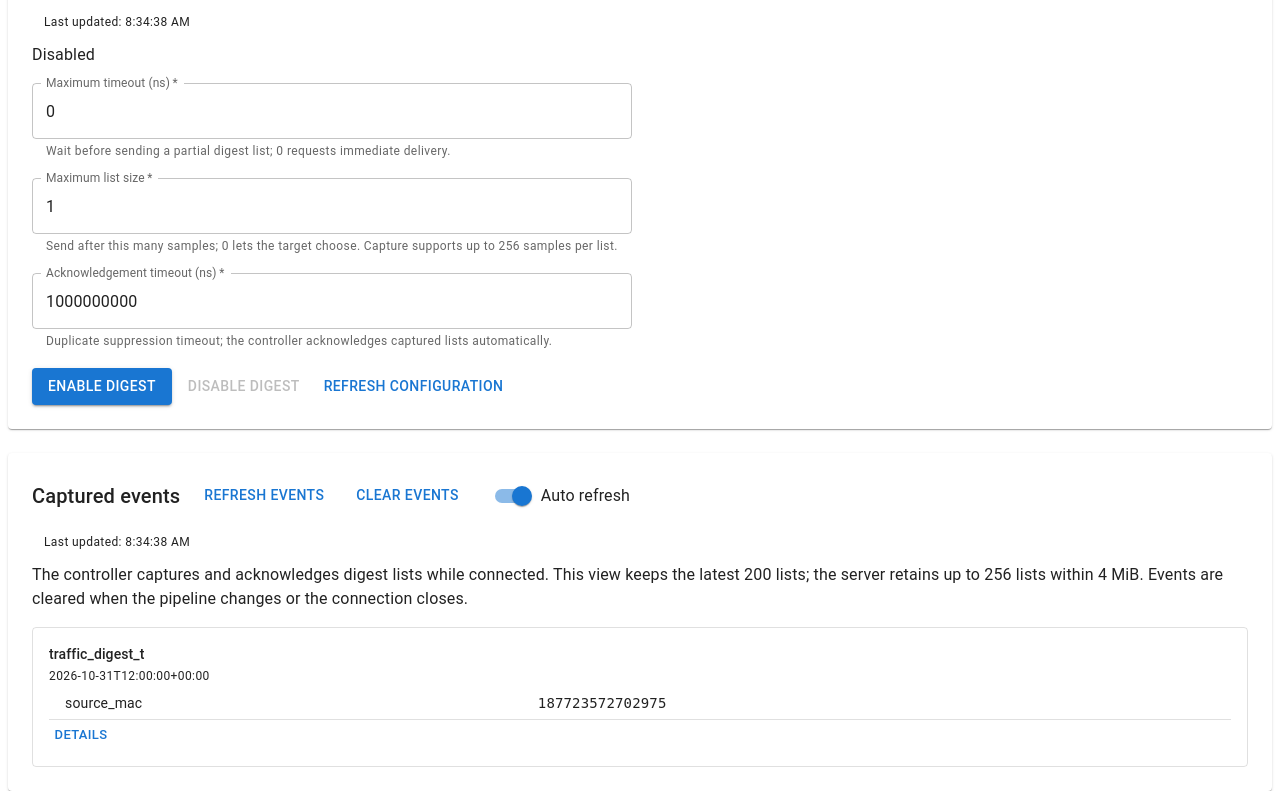
Test: digests › enables, updates and disables a digest while showing decoded captured events
(page scrolled)
Expected: the text "Disabled" is shown, [32,45,95,64]
Expected: the element with test id "digest-event-1" shows "source_mac", [65,694,142,710]
Click the button "Details". click: (81, 735)
box: [49,720,113,750]
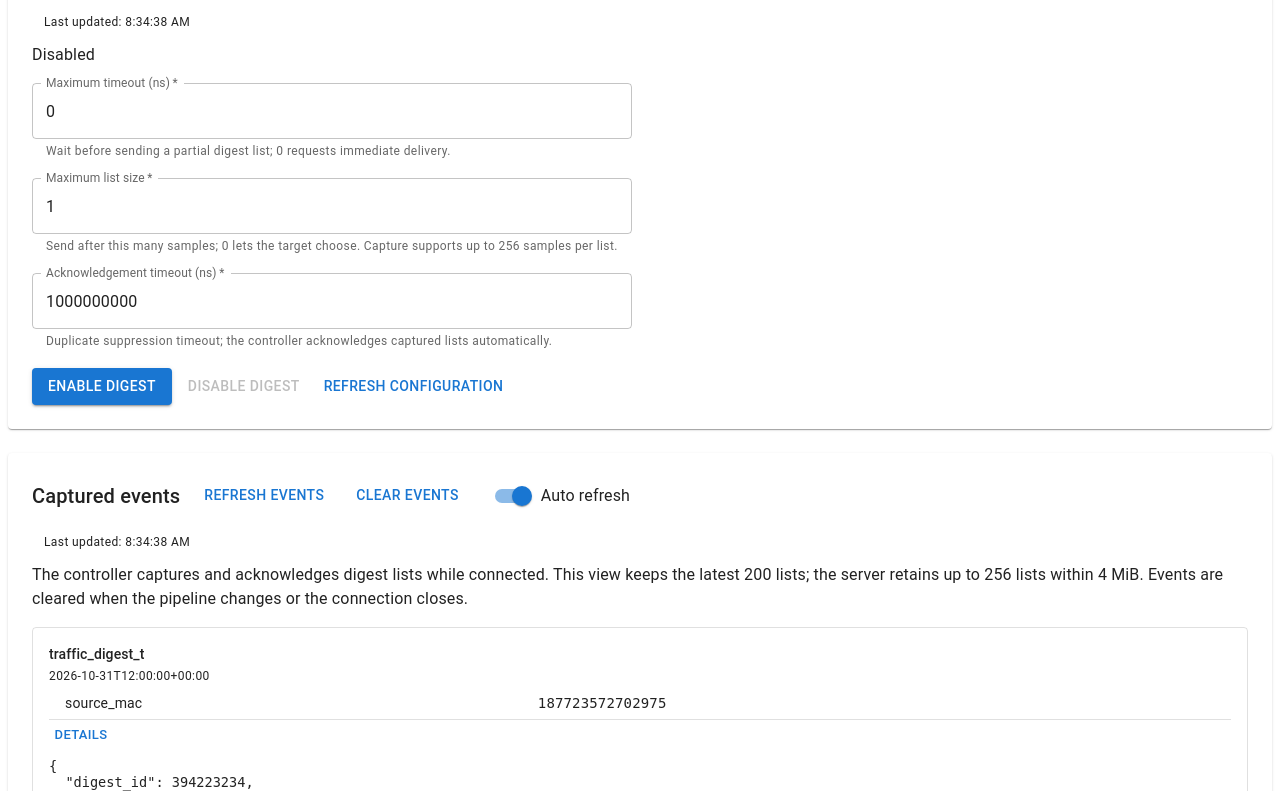
Click the button "Enable digest". click: (102, 386)
box: [32,368,172,405]
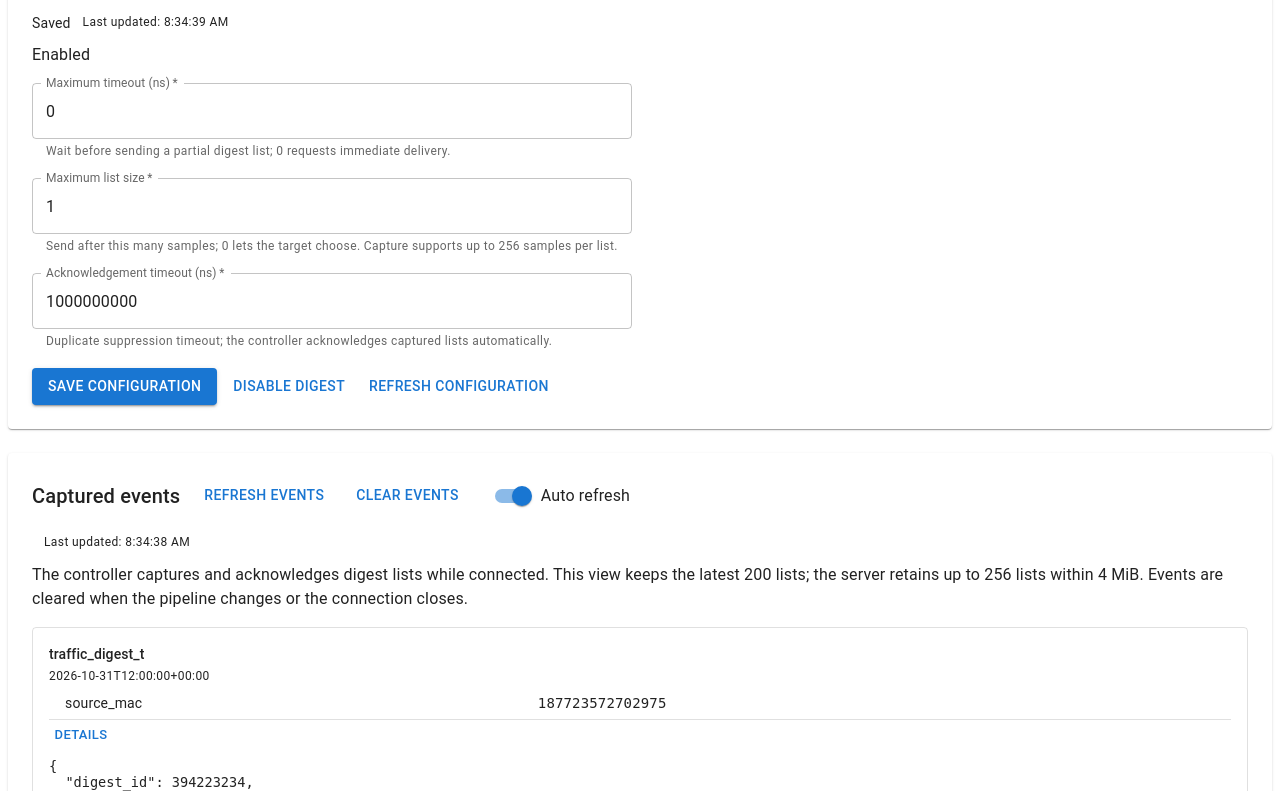
Result: the text "Enabled" is shown at [32,45,90,64]
Replace the text in the field labelled "Maximum timeout (ns)" with "9007199254740993". click: (332, 111)
box: [32,83,632,139]
Click the button "Save configuration". click: (125, 386)
box: [32,368,217,405]
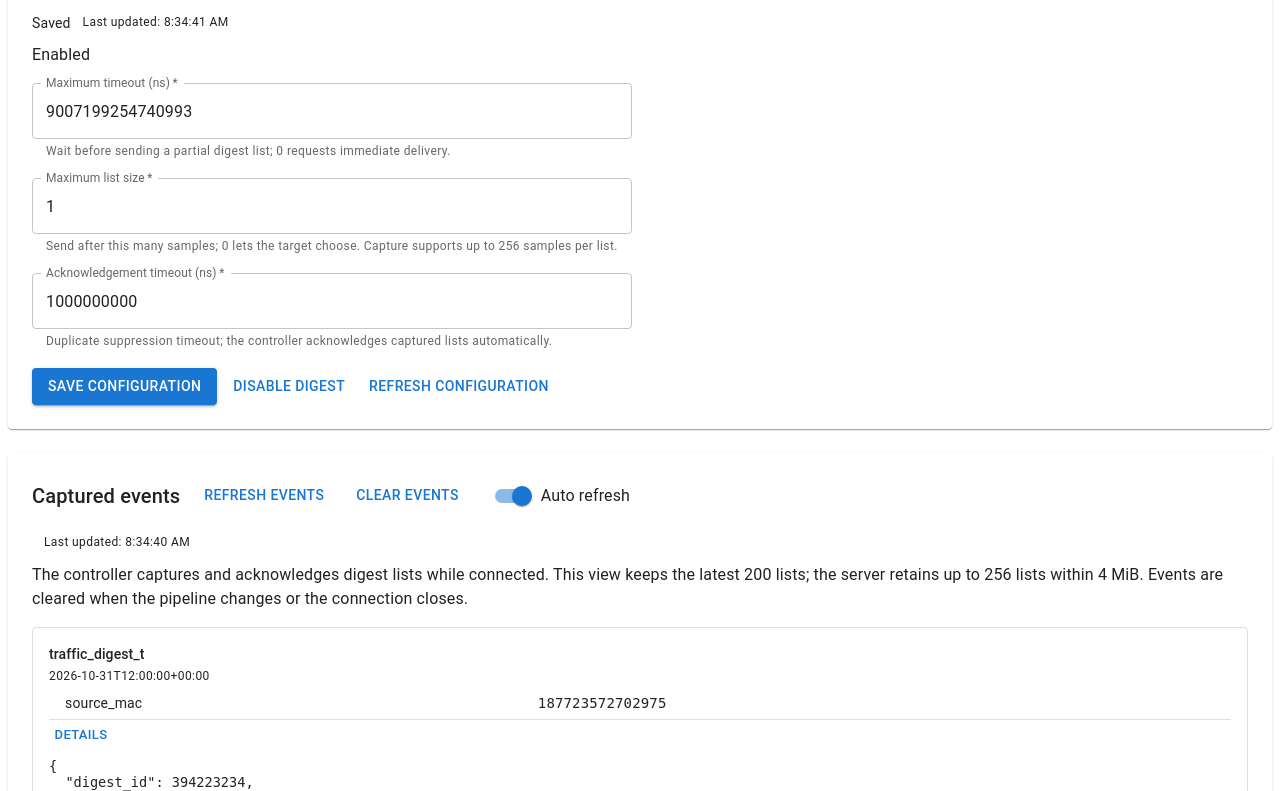
Result: the button "Disable digest" is enabled
Click the button "Disable digest". click: (289, 386)
box: [225,368,353,405]
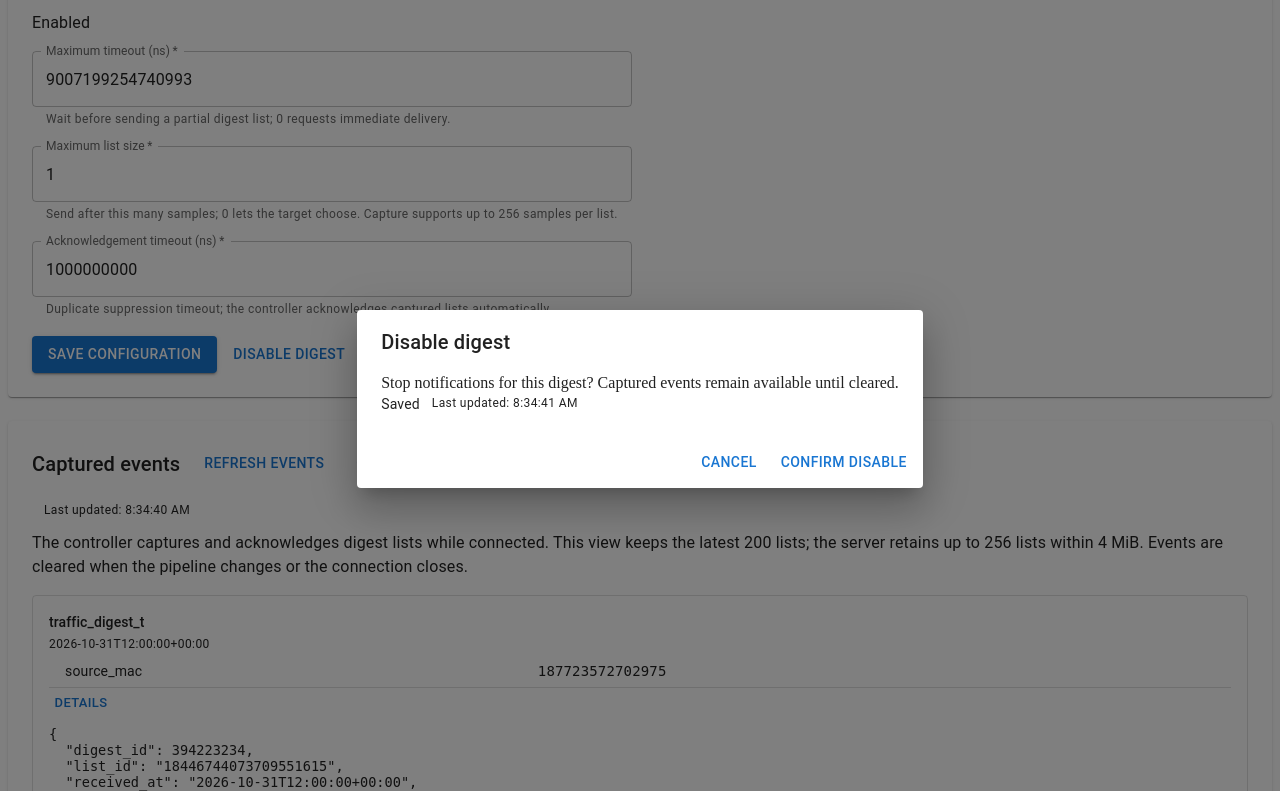
Click the button "Confirm disable". click: (844, 462)
box: [773,444,915,480]
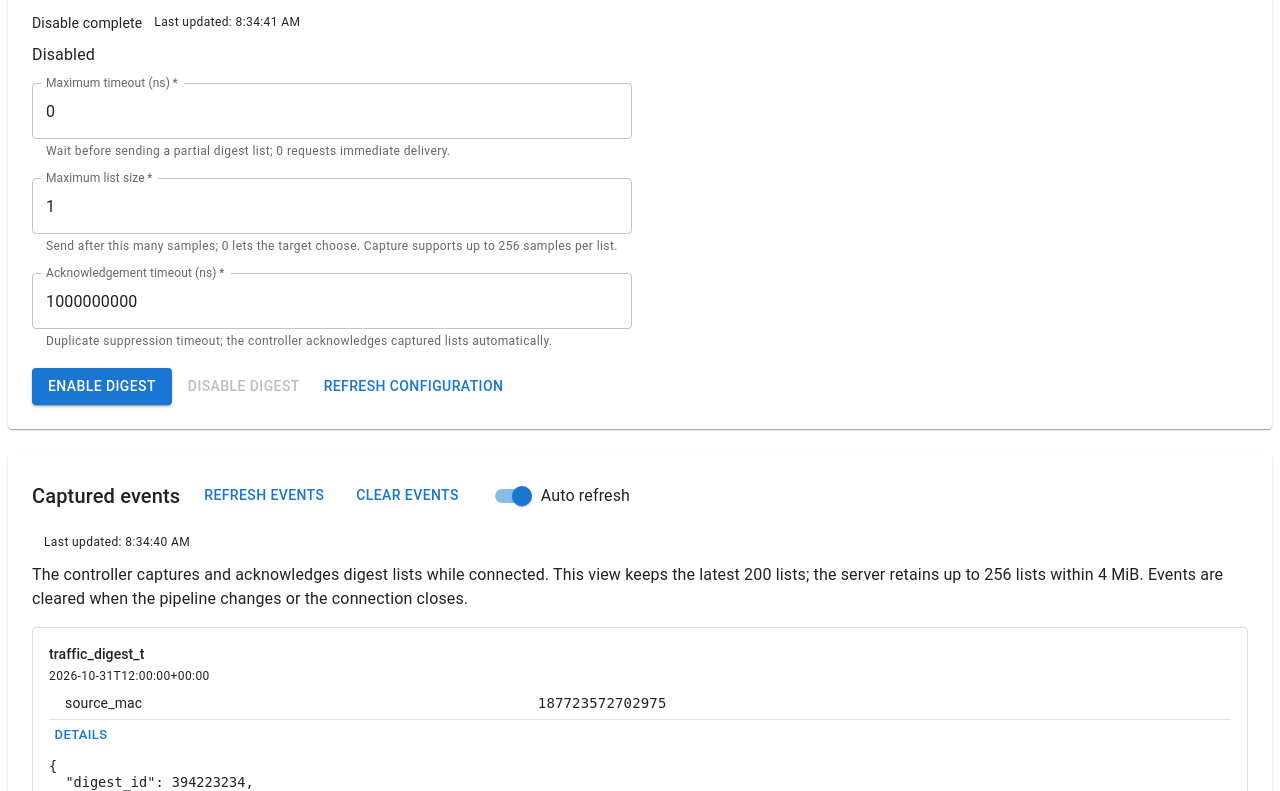
Result: the text "Disabled" is shown at [32,45,95,64]
Click the button "Clear events". click: (408, 496)
box: [348,477,467,514]
(page scrolled)
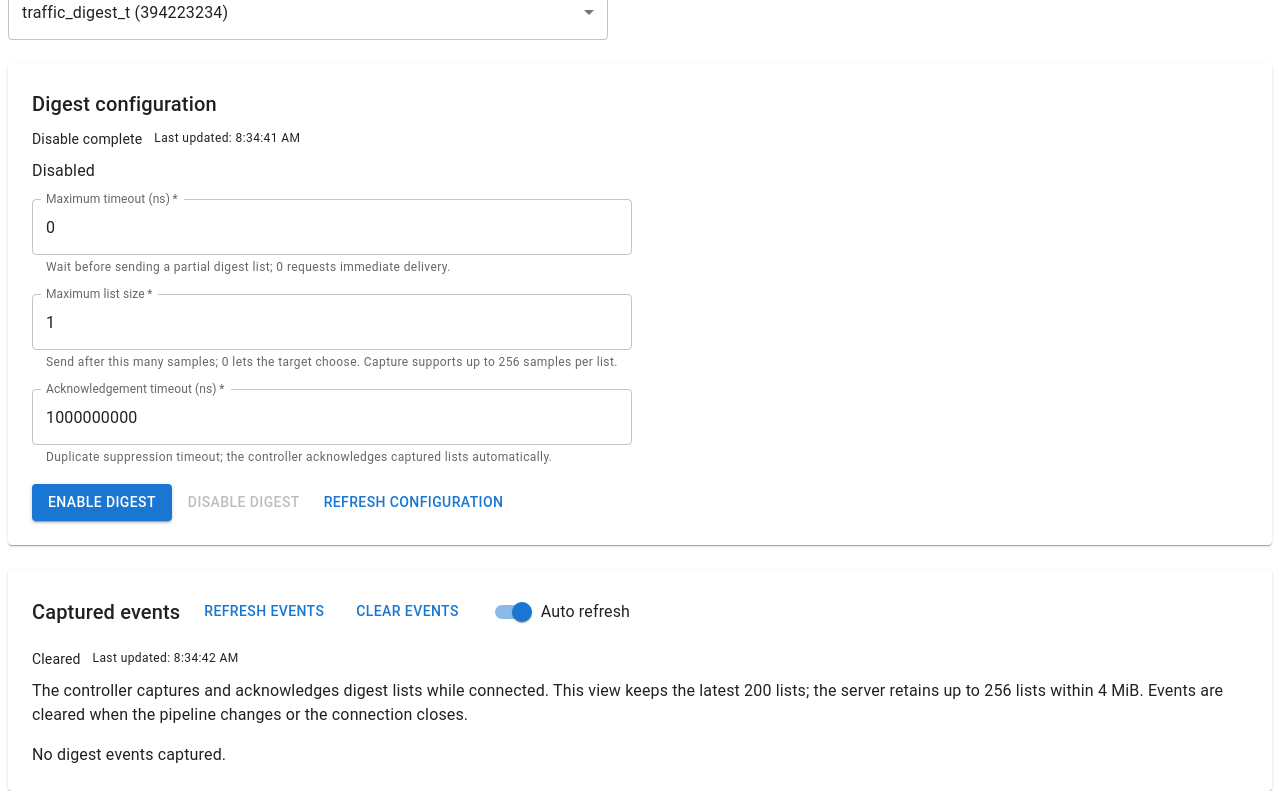
Result: the text "No digest events captured." is shown at [32,745,226,764]
